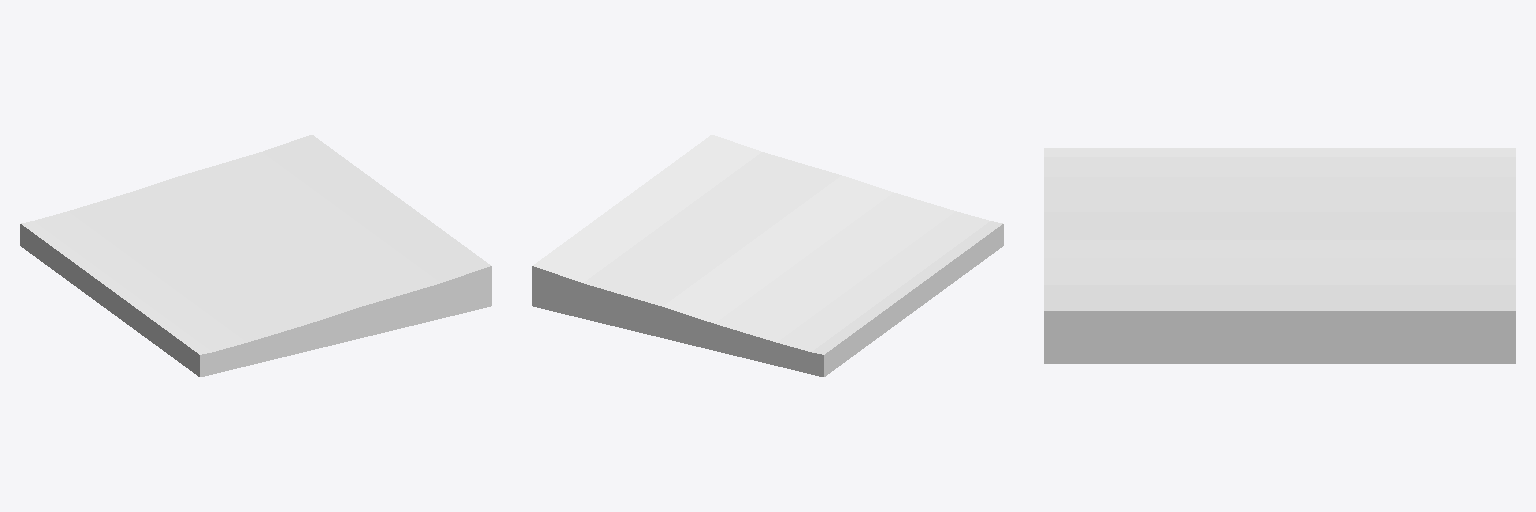
URDF robot description (rise.SLDPRT):
<?xml version="1.0" encoding="utf-8"?>
<!-- This URDF was automatically created by SolidWorks to URDF Exporter! Originally created by [author] ([email redacted]) 
     Commit Version: 1.5.1-0-g916b5db  Build Version: 1.5.7152.31018
     For more information, please see http://wiki.ros.org/sw_urdf_exporter -->
<robot
  name="rise.SLDPRT">
  <link
    name="rise">
    <inertial>
      <origin
        xyz="0.039999 -0.4 -0.0137"
        rpy="0 0 0" />
      <mass
        value="24.702" />
      <inertia
        ixx="1.3307"
        ixy="-5.75845261182208E-18"
        ixz="-0.034745"
        iyy="1.1438"
        iyz="8.99575803327572E-17"
        izz="2.448" />
    </inertial>
    <visual>
      <origin
        xyz="0 0 0"
        rpy="1.5707963267949 0 0" />
      <geometry>
        <mesh
          filename="package://rise/meshes/rise.STL" />
      </geometry>
      <material
        name="">
        <color
          rgba="1 1 1 1" />
        <texture
          filename="package://rise/textures/" />
      </material>
    </visual>
    <collision>
      <origin
        xyz="0 0 0"
        rpy="1.5707963267949 0 0" />
      <geometry>
        <mesh
          filename="package://rise/meshes/rise.STL" />
      </geometry>
    </collision>
  </link>
</robot>

--- Render facts (derived) ---
The picture shows the robot from 3 angles, left to right: view 1: azimuth 30°, elevation 25°; view 2: azimuth 150°, elevation 25°; view 3: azimuth 270°, elevation 25°; orthographic projection.
Robot: rise.SLDPRT — 1 links, 0 joints (none); root link rise; default pose: all joints at 0.
Links seen in each view (by area): view 1: rise; view 2: rise; view 3: rise.
Boxes of the visible links, x1,y1,x2,y2 form: rise: (20,135,491,376); rise: (532,135,1003,376); rise: (1044,148,1515,363).
Size in the robot's own frame: 0.75 by 0.8 by 0.1 metres.
Meshes: 1 distinct files referenced, 1 mesh visuals loaded (1 binary STL).